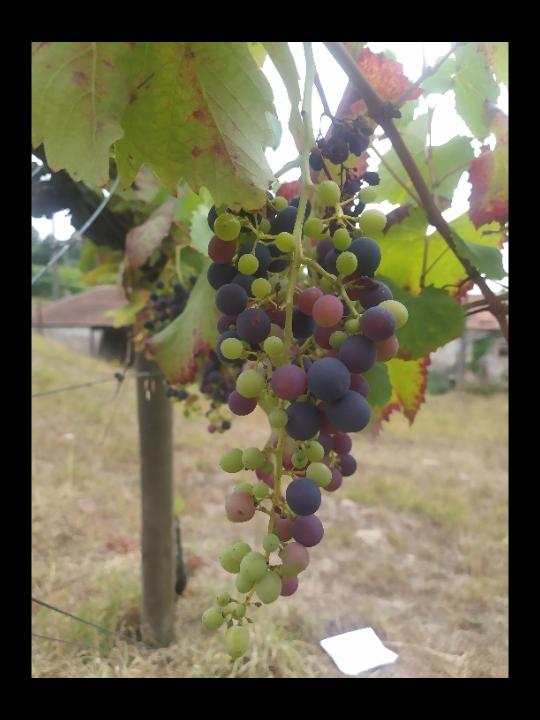grape: (199, 114, 411, 659)
